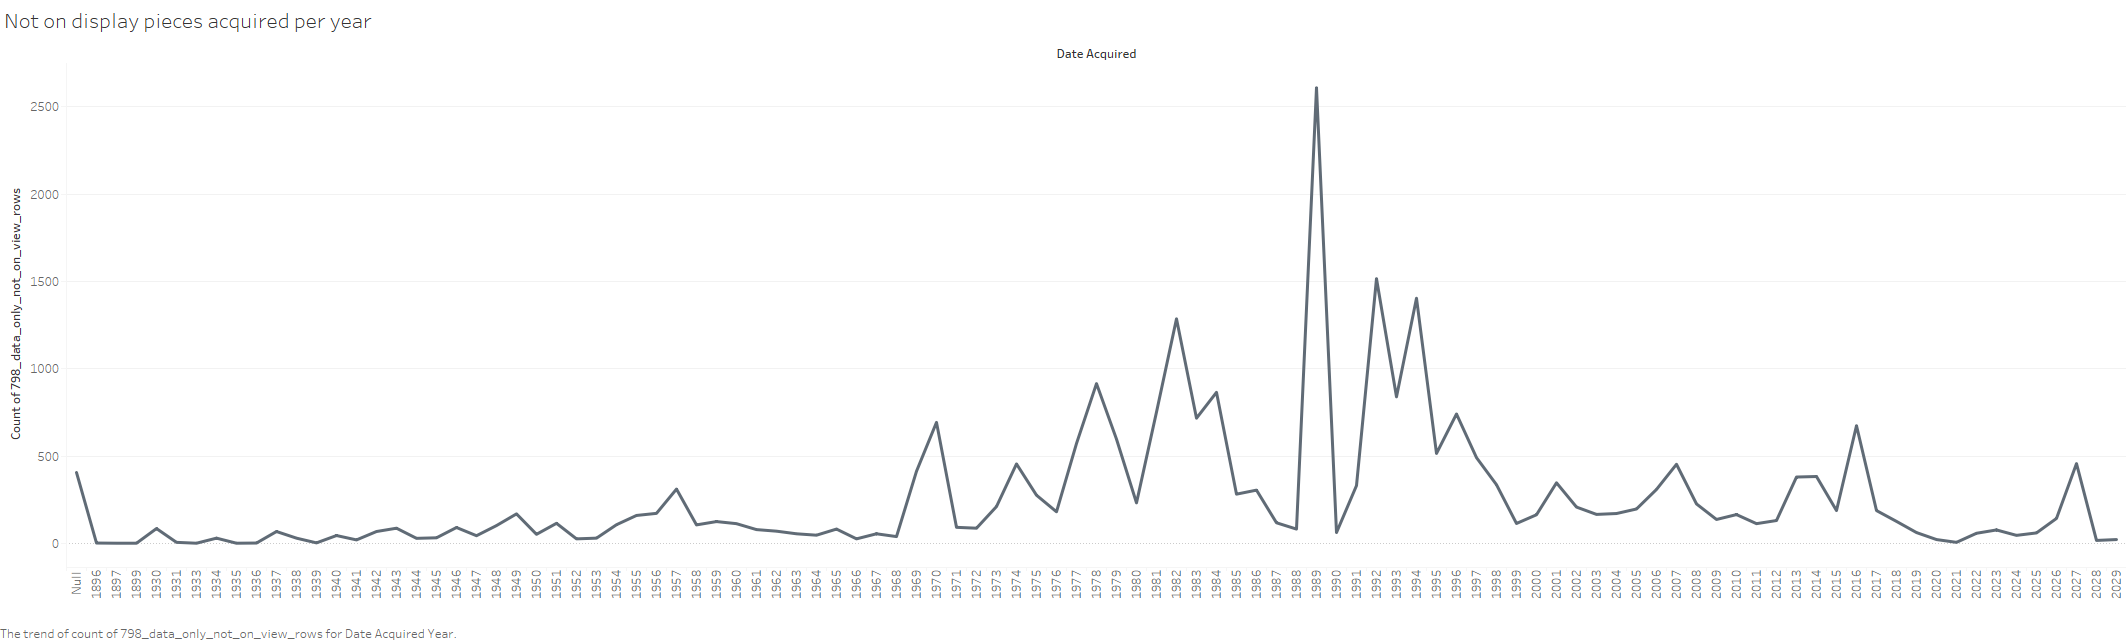

What the dashboard file says about the page in this screenshot:
{"tool":"tableau","page":{"name":"Dashboard 1","canvas":[1000,800],"ordinal":0},"visuals":[{"type":"worksheet","title":"Sheet 2","mark":"Automatic","rows":["798!data!only!not!on!view!rows_52761707DF0A46CA932B8A59ADC1F"],"cols":["date_acquired"],"box":[8,8,984,784]}]}

Visuals, with their boxes on the page's 1000x800 design canvas (x1, y1, x2, y2). These are canvas units, not pixel positions in the 2126x642 screenshot, which may show the page scaled, cropped or inside an application window:
"Sheet 2" worksheet: (left=8, top=8, right=992, bottom=792)
